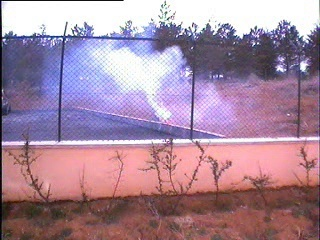smoke: (67, 35, 193, 121)
